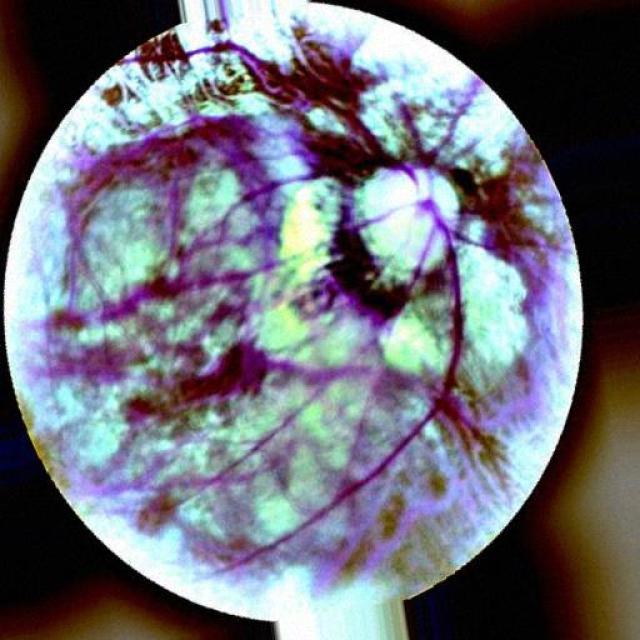Nerves: (416, 194, 459, 321), (452, 332, 460, 361)
Optic Disk: (351, 170, 439, 286)
